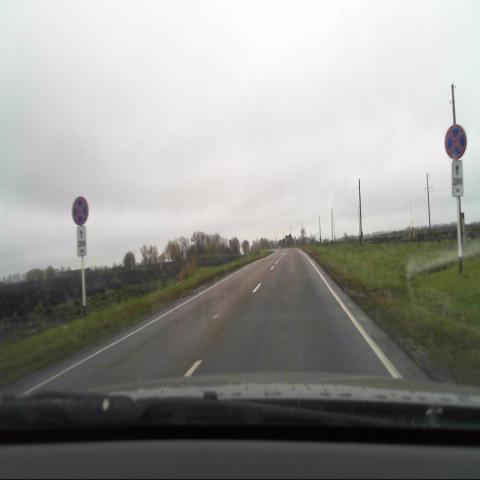8_2_2: (452, 160, 463, 196), (77, 226, 86, 258)
